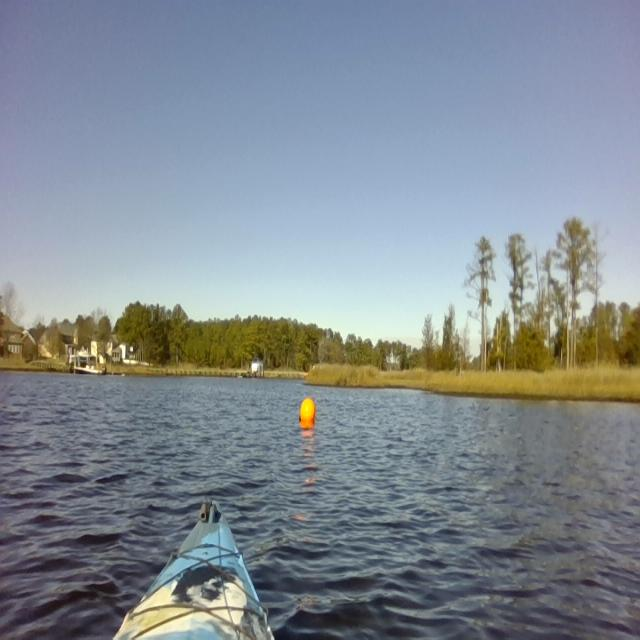Buoy: (294, 389, 324, 440)
